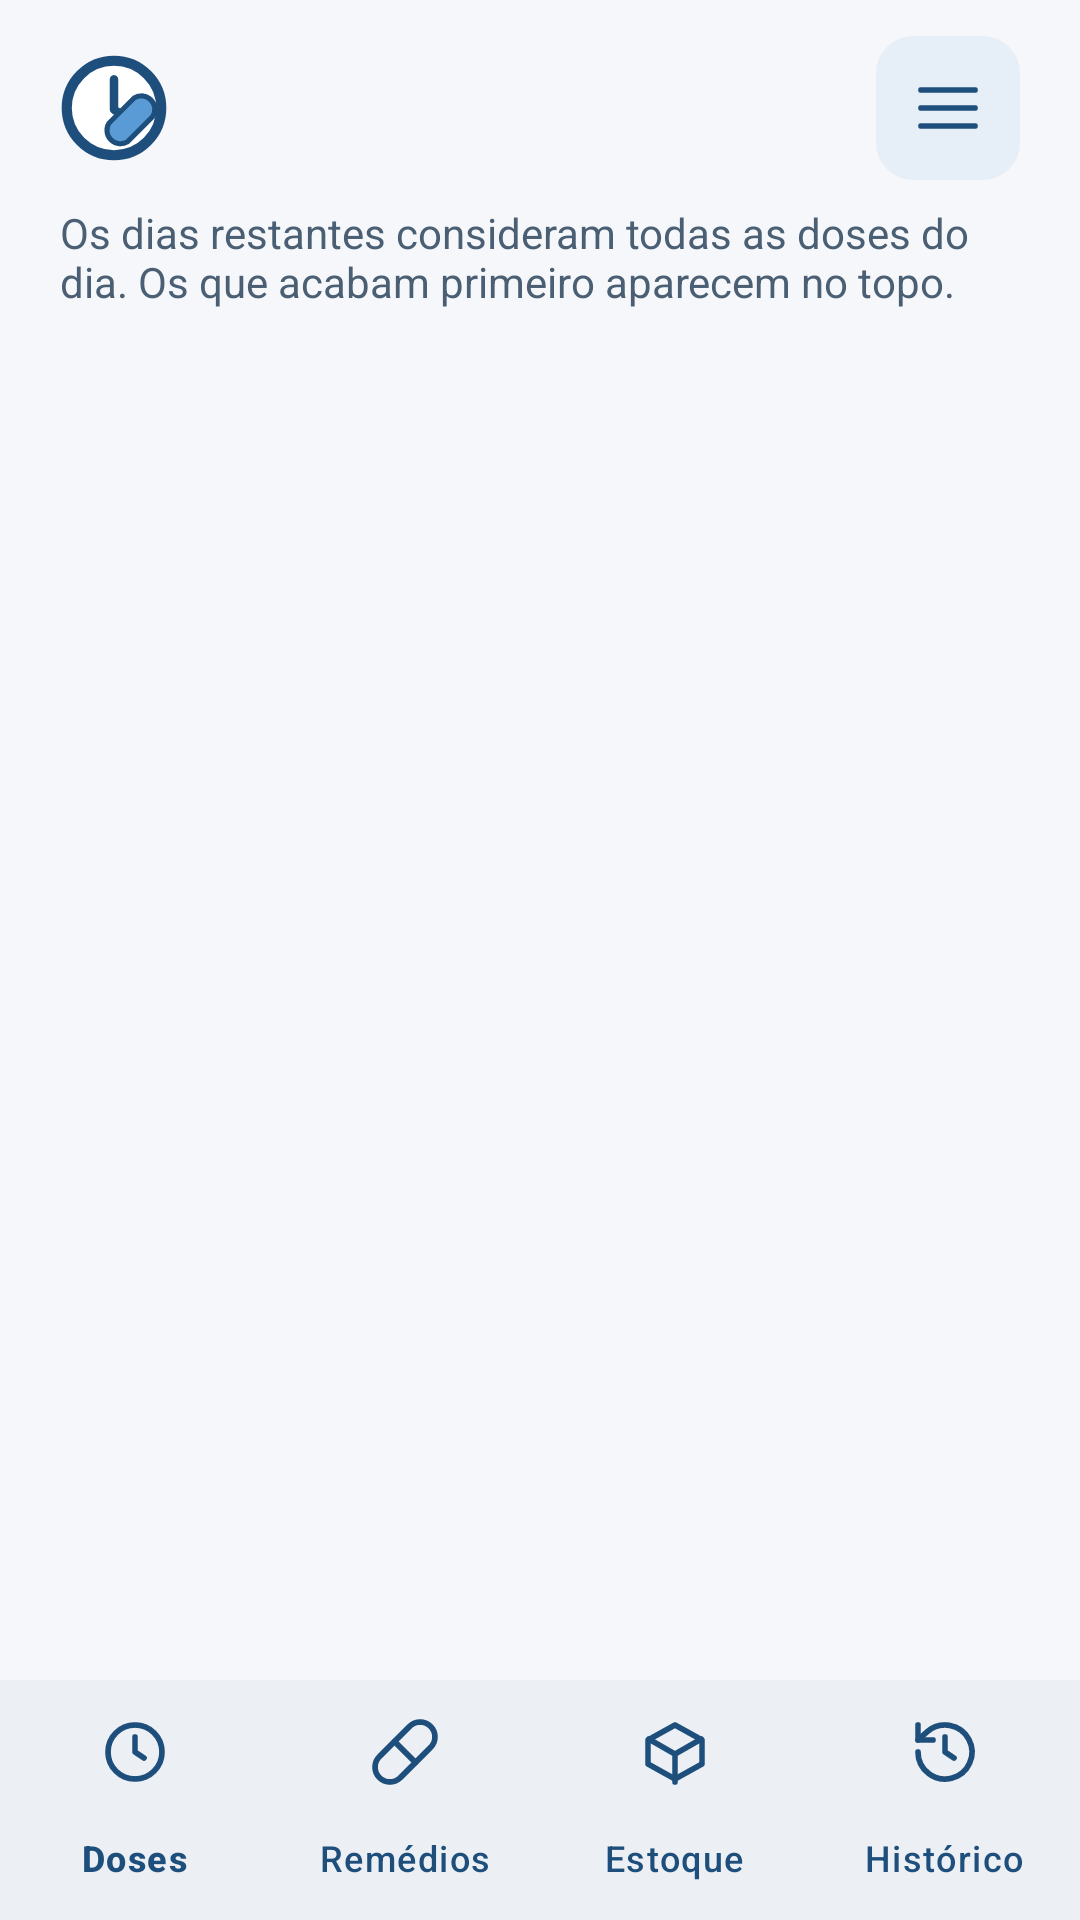

Named icons in this screenshot (1080w x 1920h) and their centers, [x,y]:
Abrir menu: [948,108]
